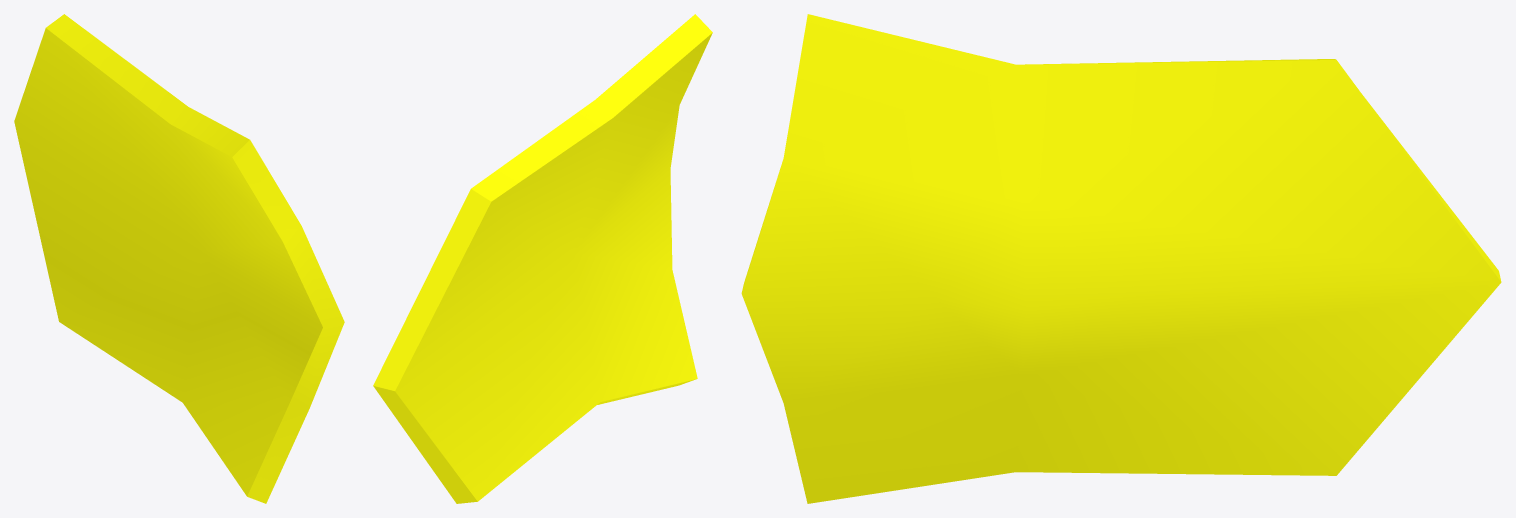
The model's file is UD_Shield_C.glb.
The picture shows the model from 3 angles, left to right: view 1: azimuth 30°, elevation 25°; view 2: azimuth 150°, elevation 25°; view 3: azimuth 270°, elevation 25°; orthographic projection. The views are drawn at different scales.
Visible parts, largest first — view 1: UD_Shield_C; view 2: UD_Shield_C; view 3: UD_Shield_C.
Part boxes in pixels (x1,y1,x2,y2): UD_Shield_C: (14, 14, 344, 503); UD_Shield_C: (373, 14, 712, 503); UD_Shield_C: (741, 14, 1501, 503).
Bounding box in the file's own units: 0.229 × 0.6983 × 1.
1 material, 1 textured.
